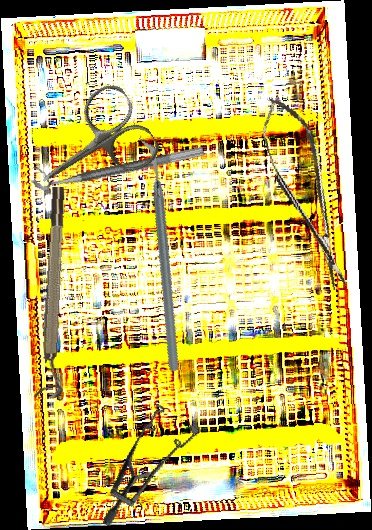Chopper: (73, 134, 246, 374)
Fixation Ring: (28, 132, 205, 193), (33, 186, 78, 399)
Iris Scissors: (18, 78, 165, 218)
Micro Scissor: (253, 90, 358, 297)
Speculum: (68, 391, 221, 528)
